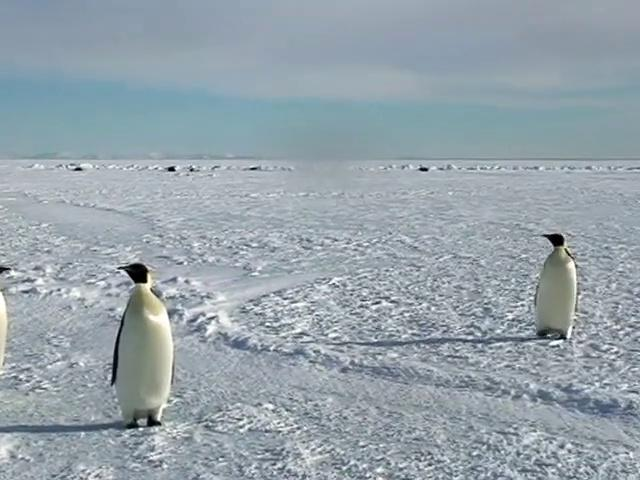animal: (111, 263, 173, 427)
